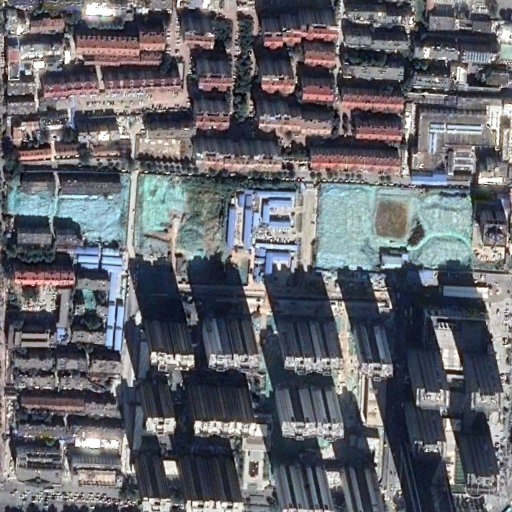cw: (314, 184, 472, 271), (136, 170, 251, 283), (5, 185, 127, 248)
